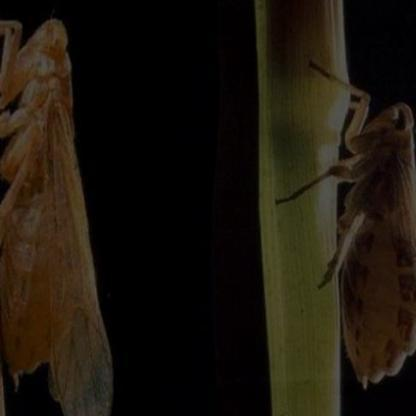brown-planthopper: (0, 16, 108, 416), (339, 78, 416, 393)
